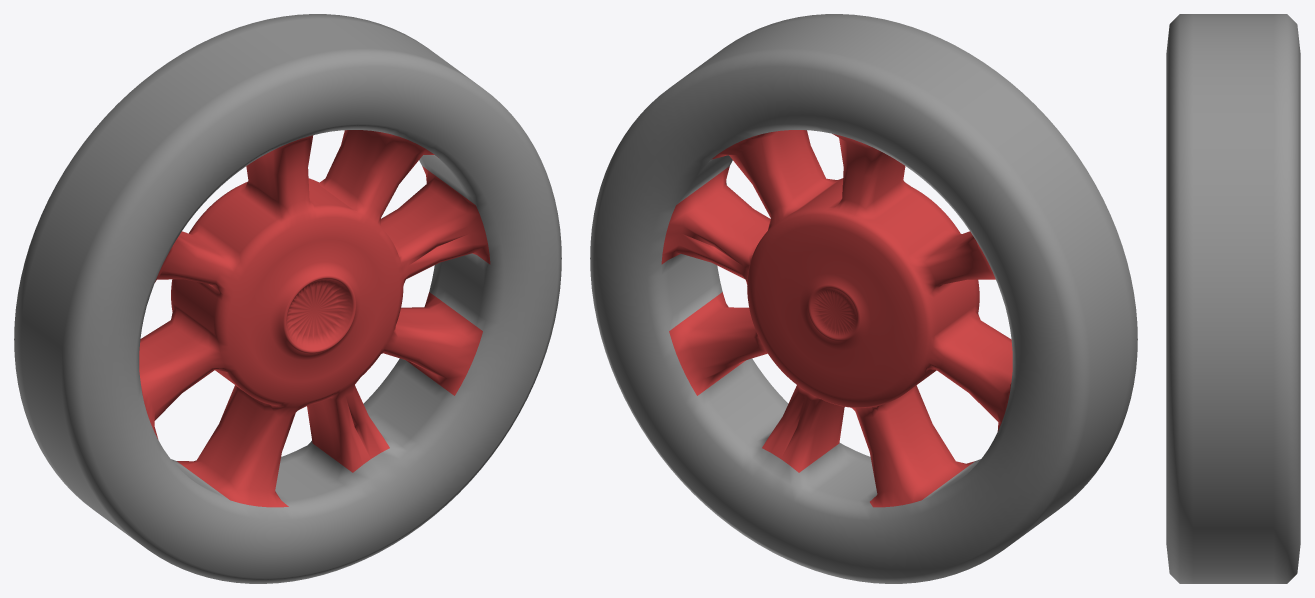
Rendered from Roata.FBX.
3 views of the same model, side by side, from view 1: azimuth 30°, elevation 25°; view 2: azimuth 150°, elevation 25°; view 3: azimuth 270°, elevation 25° (orthographic).
Visible parts, largest first — view 1: Cylinder001; view 2: Cylinder001; view 3: Cylinder001.
Boxes of the visible parts, x1,y1,x2,y2 form: Cylinder001: [14, 14, 561, 583]; Cylinder001: [590, 14, 1137, 583]; Cylinder001: [1166, 14, 1300, 583].
Bounding box in the file's own units: 46.63 × 46.61 × 11.
